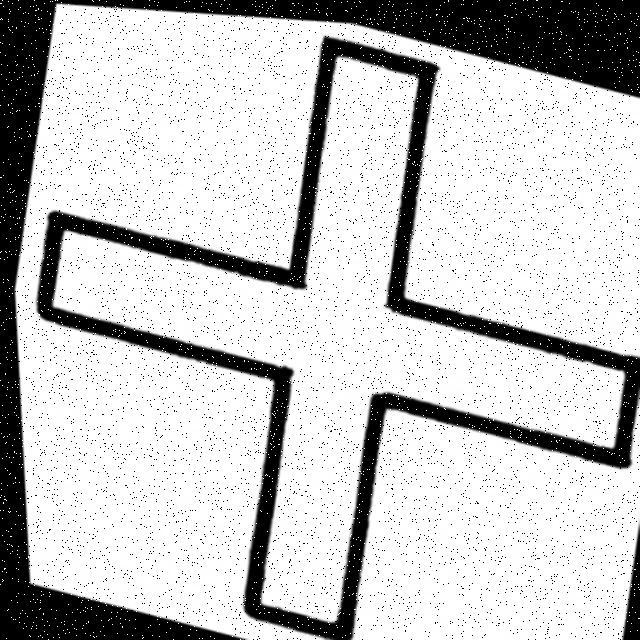cross: (44, 27, 640, 639)
